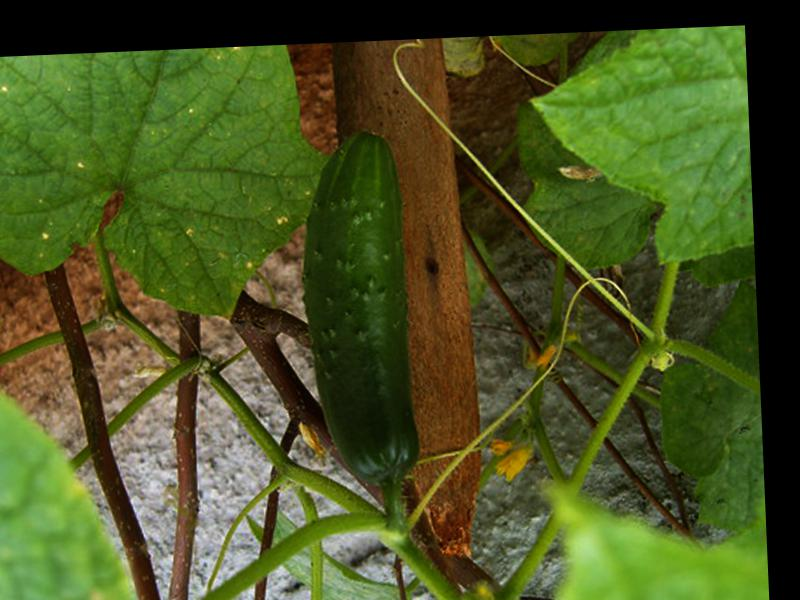Cucumber: (296, 128, 422, 488)
